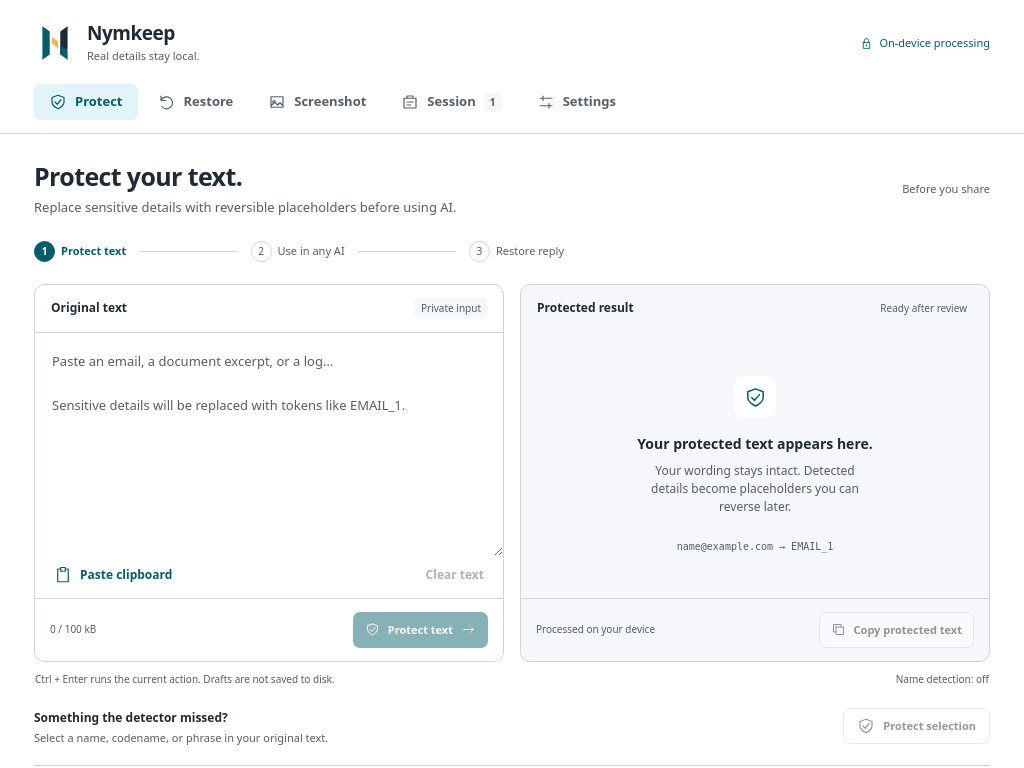
Session privacy › never reveals a late mapping response after leaving the view
Click the button with aria-label "Session, 1 active mappings" at (452, 102), box [386, 84, 517, 120]
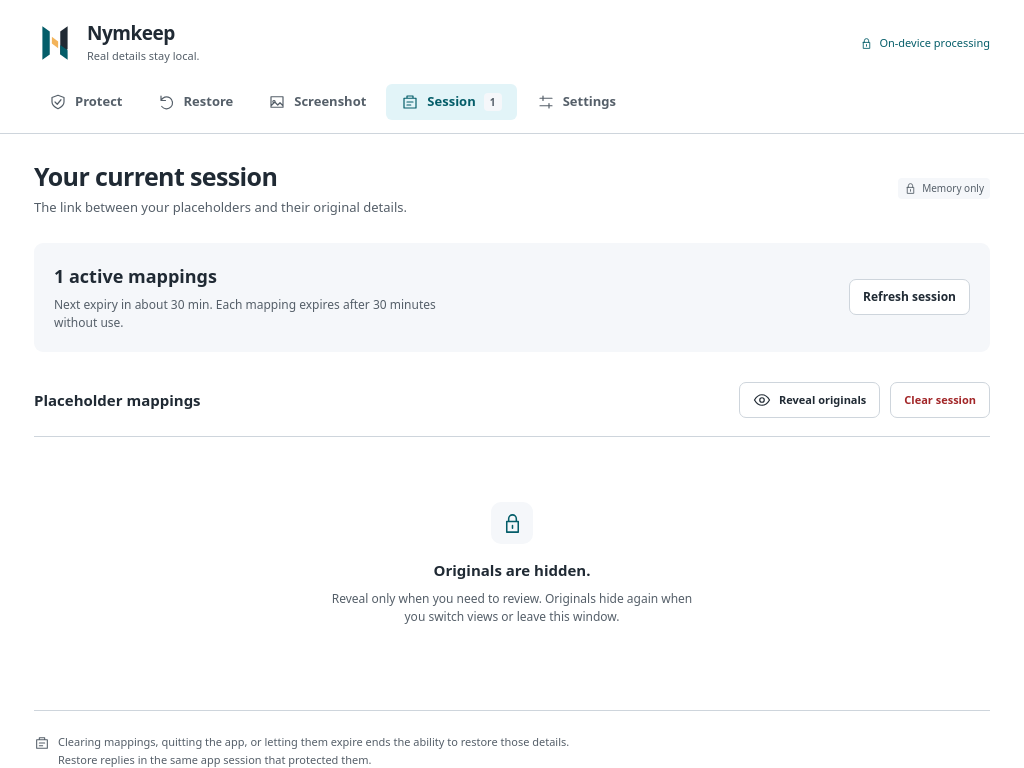
Click the button "Reveal originals" at (810, 400), box [739, 382, 880, 418]
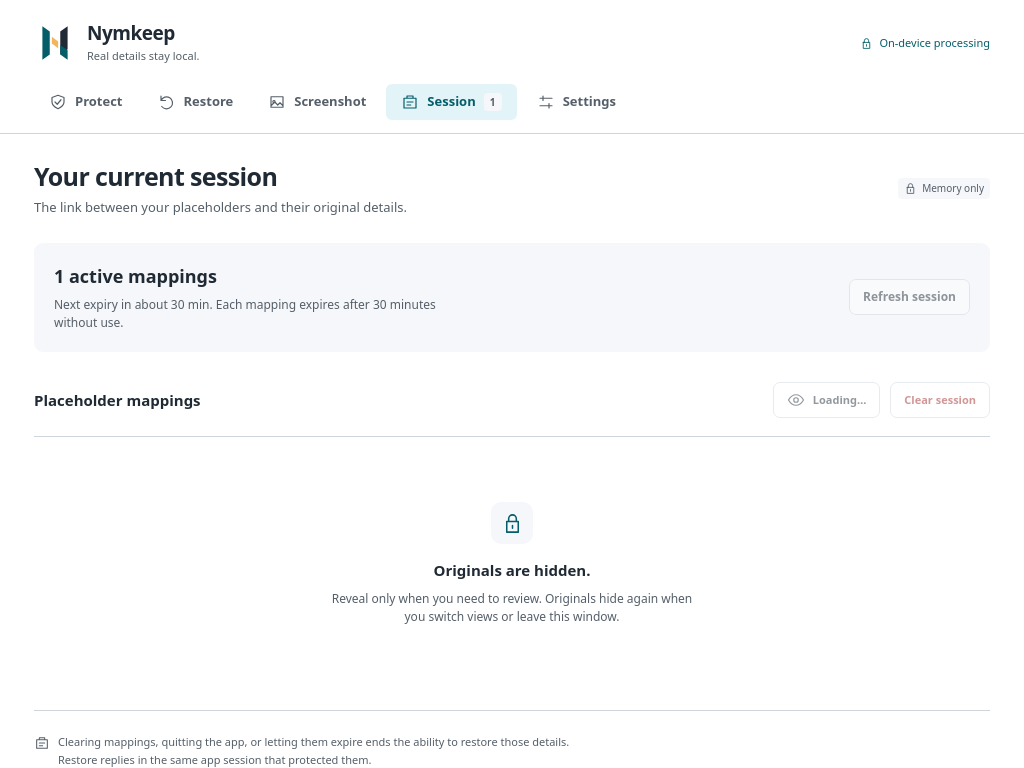
Click the button "Protect" at (86, 102), box [34, 84, 138, 120]
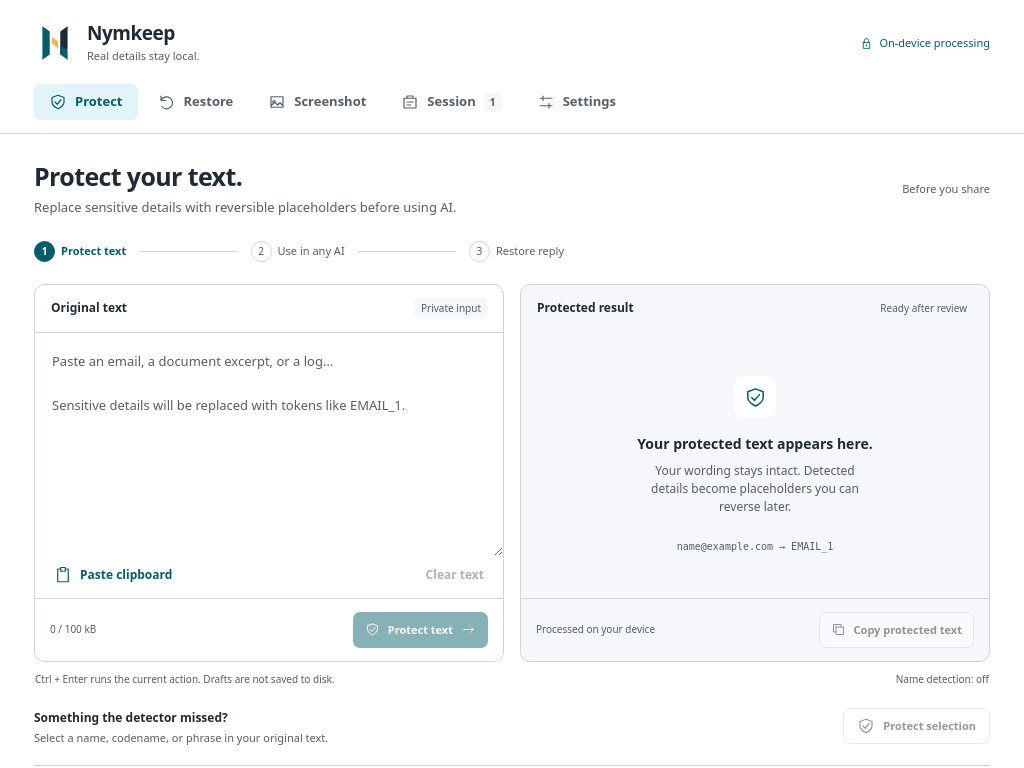
Click the button with aria-label "Session, 1 active mappings" at (452, 102), box [386, 84, 517, 120]
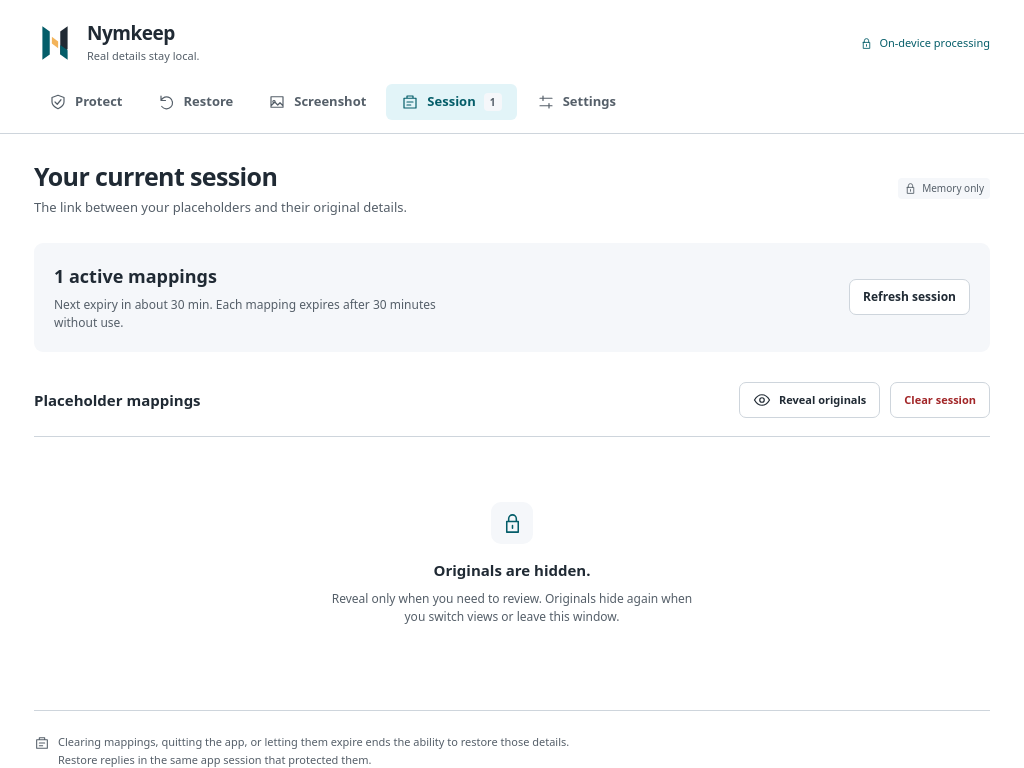
Expected: the button "Reveal originals" is shown, [739, 382, 880, 418]
